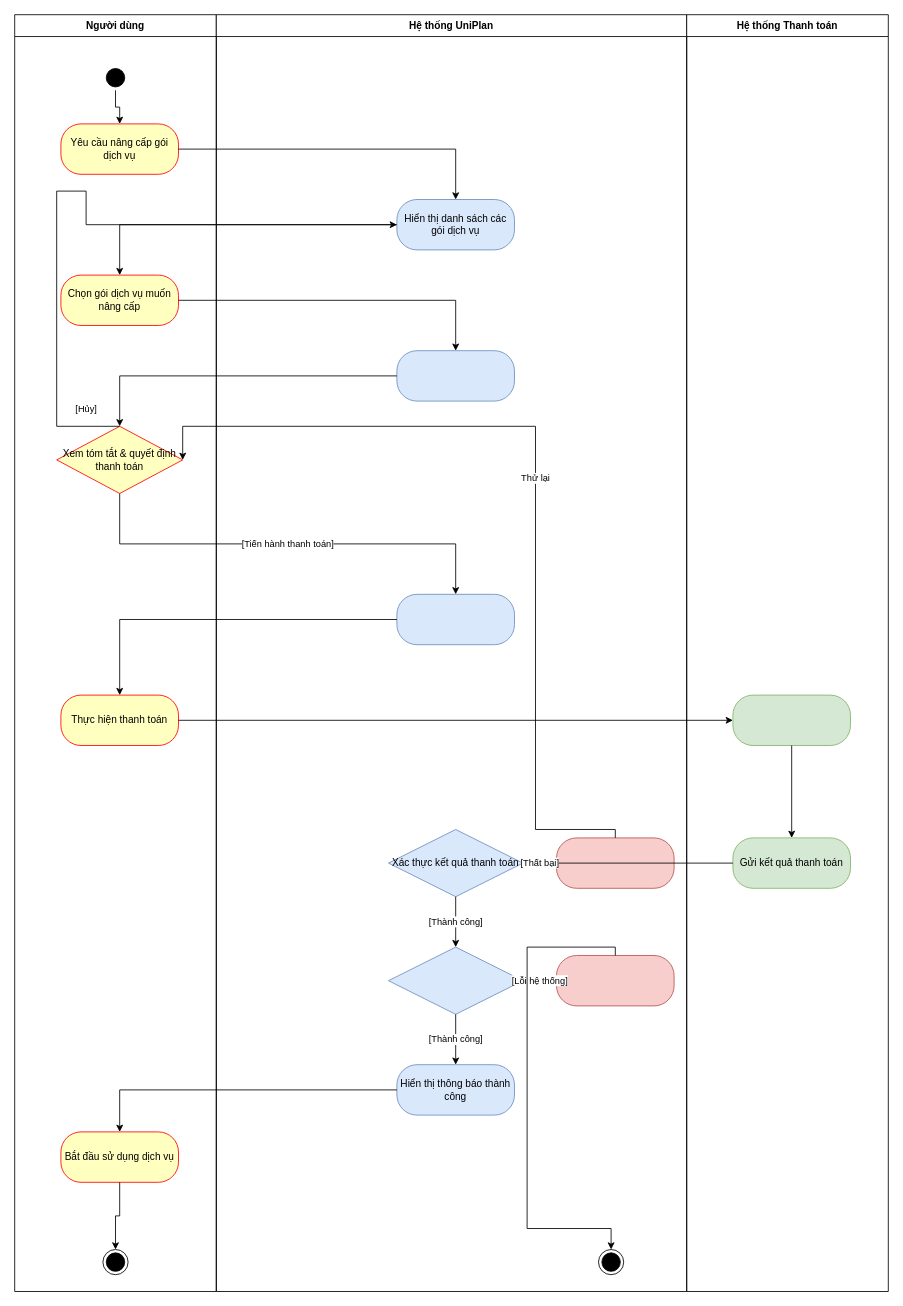
Some shapes in this 903 by 1306 pixel diagram are drawn without their labels. Each missing label, with the box of its shape:
Cập nhật trạng thái gói dịch vụ: (388, 946, 523, 1014)
Ghi log lỗi, thông báo Admin & Hoàn tiền (nếu có): (556, 955, 674, 1006)
Hiển thị thông báo lỗi thanh toán: (556, 837, 674, 888)
Hiển thị trang tóm tắt đơn hàng: (396, 350, 514, 401)
Xử lý giao dịch: (732, 694, 850, 746)
Xử lý yêu cầu và chuyển hướng đến trang thanh toán: (396, 593, 514, 645)
